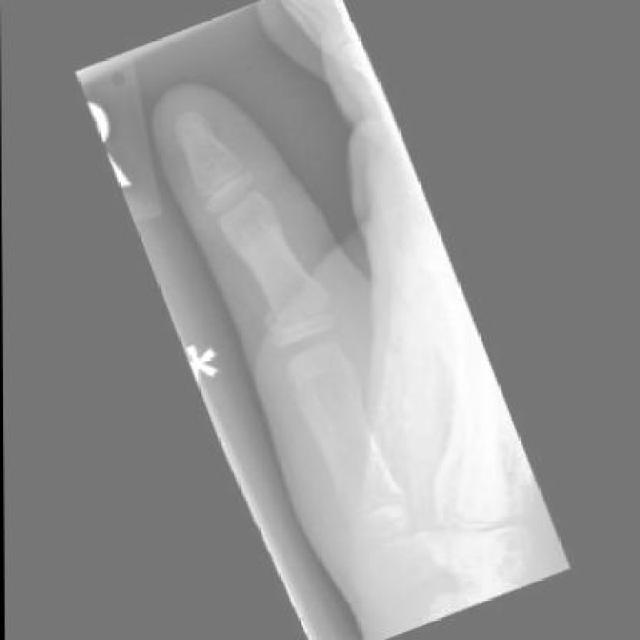Fracture: (253, 268, 344, 348)
